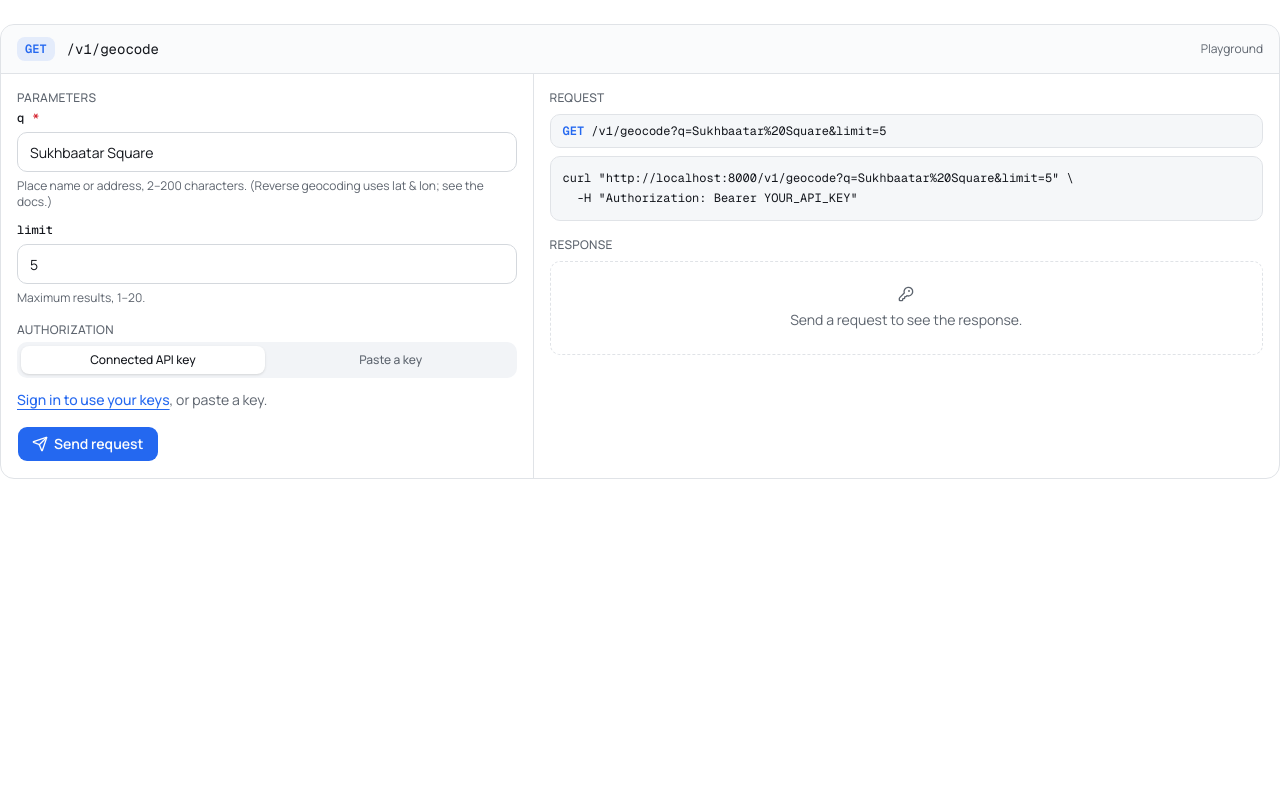
Test: Playground › sends a pasted key and shows status, rate limit and JSON
Click the radio button labelled "Paste a key" at (391, 360), box [359,351,422,368]
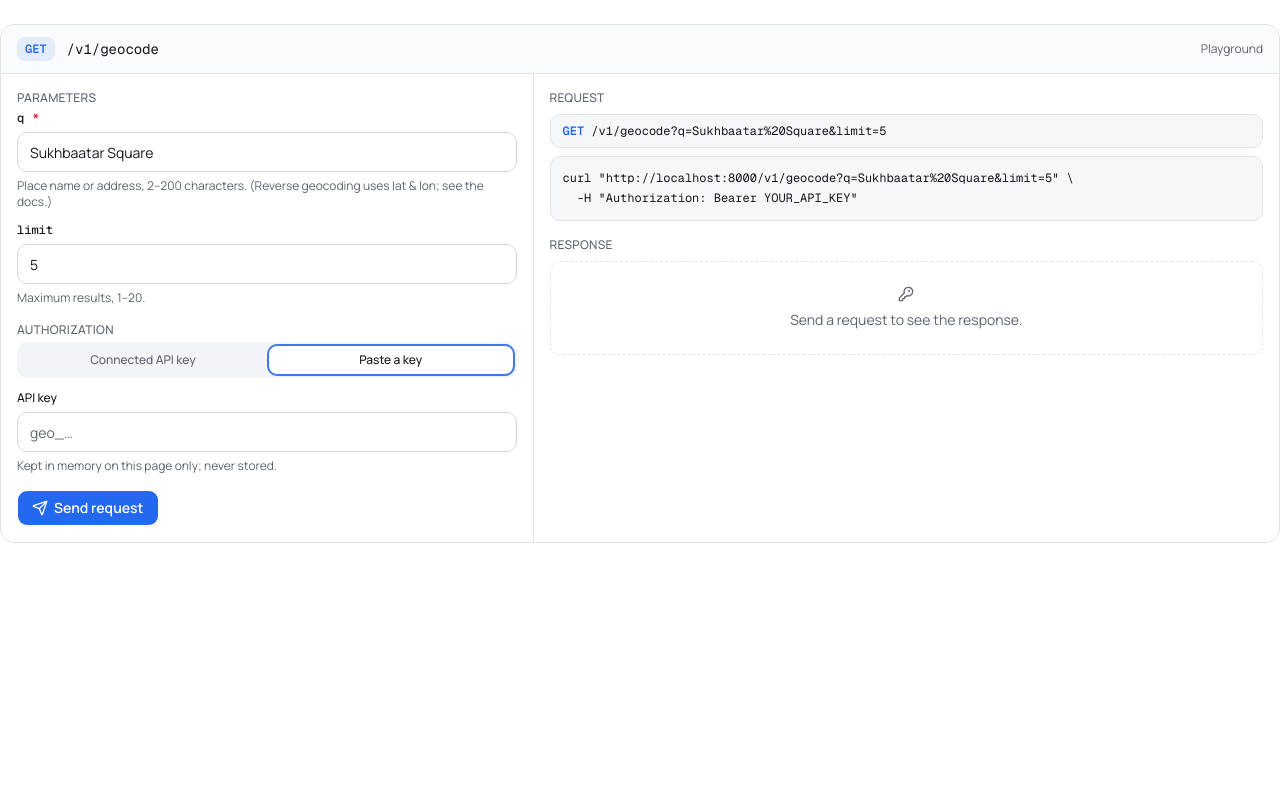
Type "geo_abcdefghijklmnopqrstuvwxyz123456" into the password field labelled "API key" at (267, 432), box [17,412,516,452]
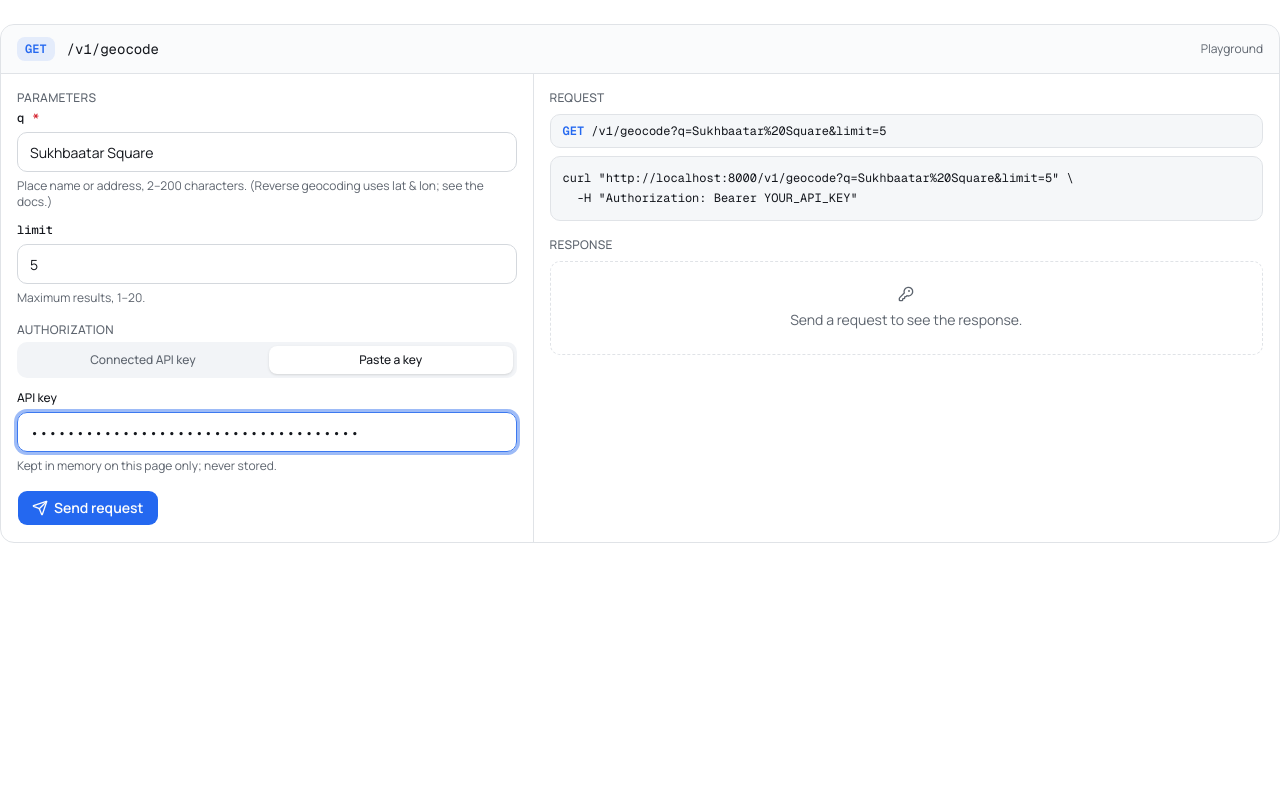
Replace the text in the field labelled "q *" with "Gandan" at (267, 152), box [17,132,516,172]
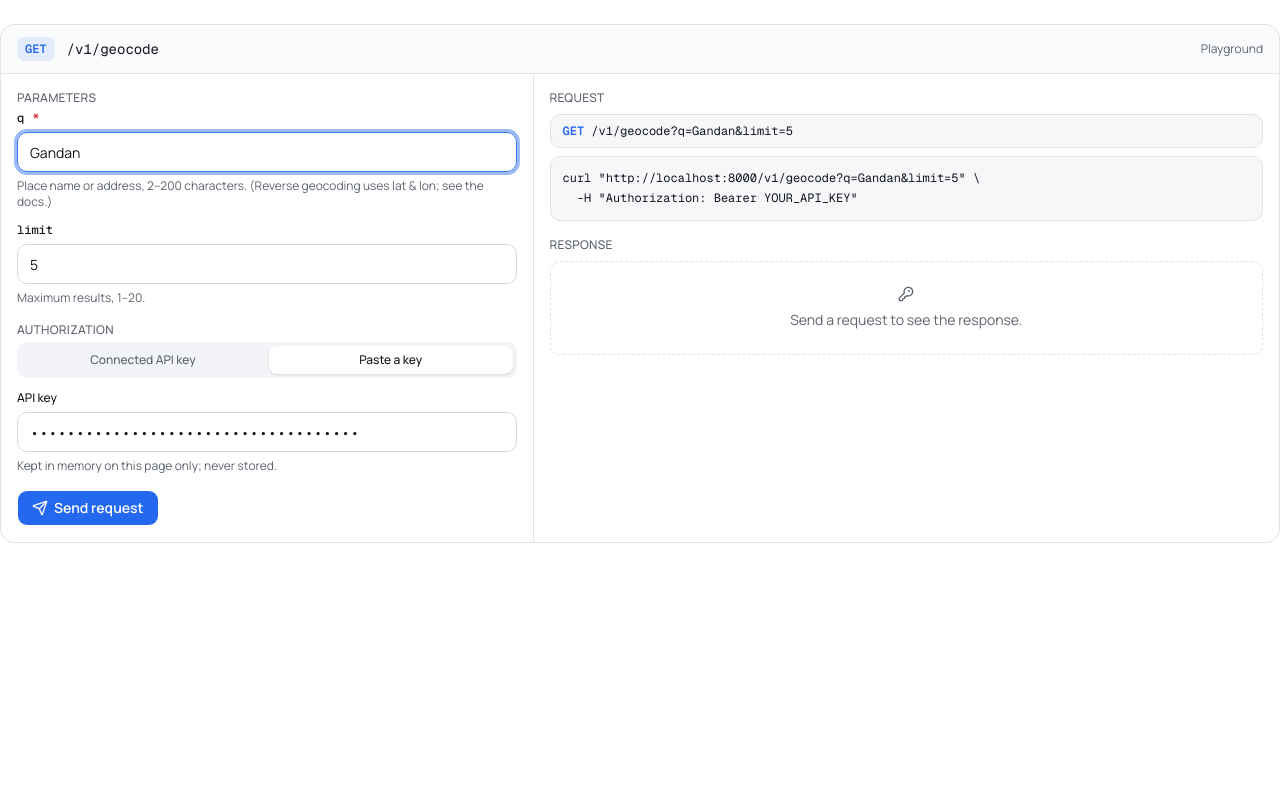
Click the button "Send request" at (88, 508), box [17,490,158,526]
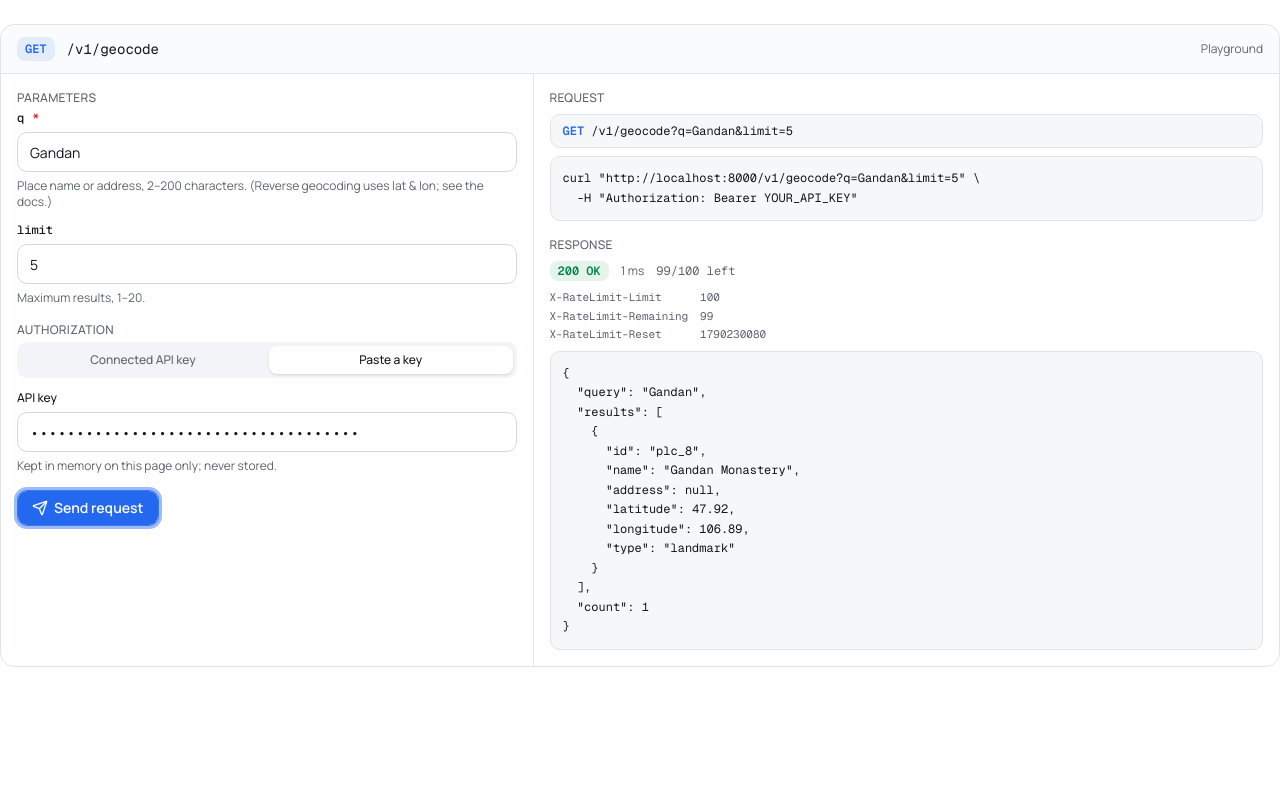
Expected: the text with test id "status-line" reads "200 OK", [558,263,601,279]
Expected: the text with test id "response-body" shows "\"name\": \"Gandan Monastery\"", [562,364,800,634]
Expected: the text "99/100 left" is shown, [656,263,736,279]
